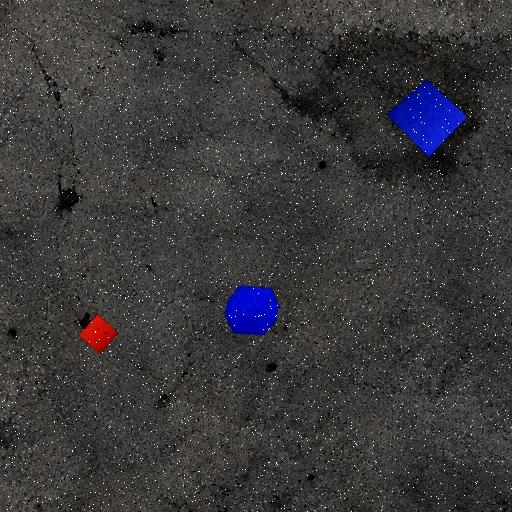BLUE_SQUARE: (386, 78, 468, 158)
RED_SQUARE: (78, 314, 120, 355)
